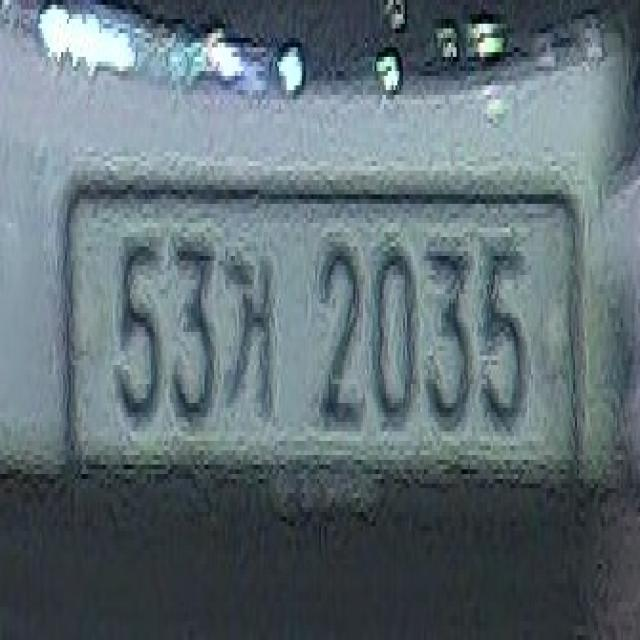0: (365, 222, 426, 446)
2: (306, 232, 374, 441)
3: (418, 232, 482, 446), (170, 223, 231, 441)
5: (476, 228, 546, 464), (107, 204, 170, 431)
geo: (224, 246, 282, 432)
license_plate: (59, 180, 587, 507)
